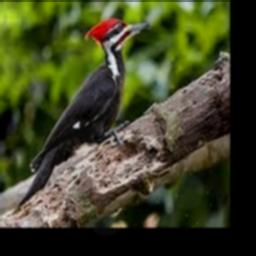Woodpecker: (16, 17, 151, 209)
